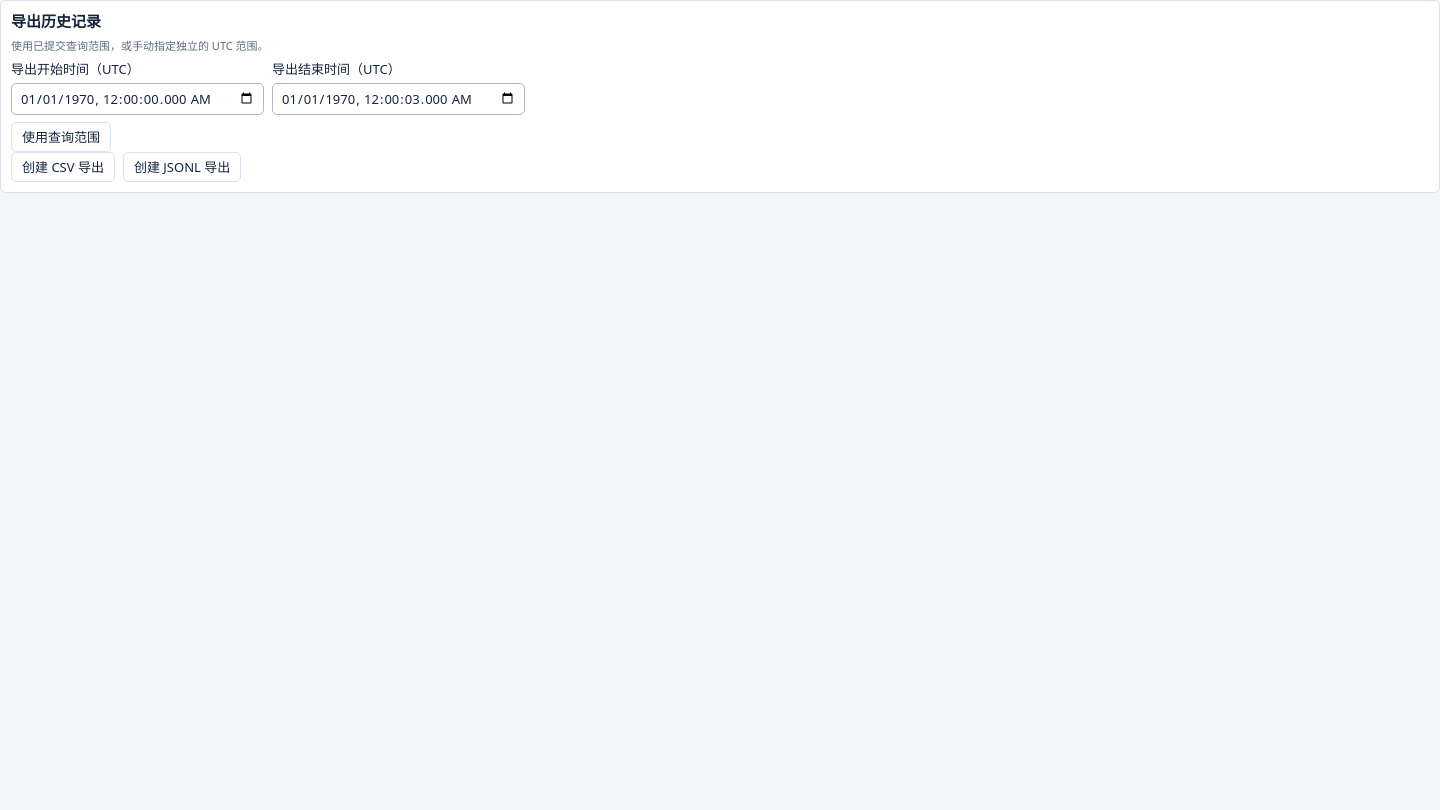
Test: cancels the export confirmation dialog and returns focus
This screenshot has width=1440, height=810.
Click the button "创建 CSV 导出".
click(63, 167)  # box top-left (11, 152), bottom-right (115, 182)
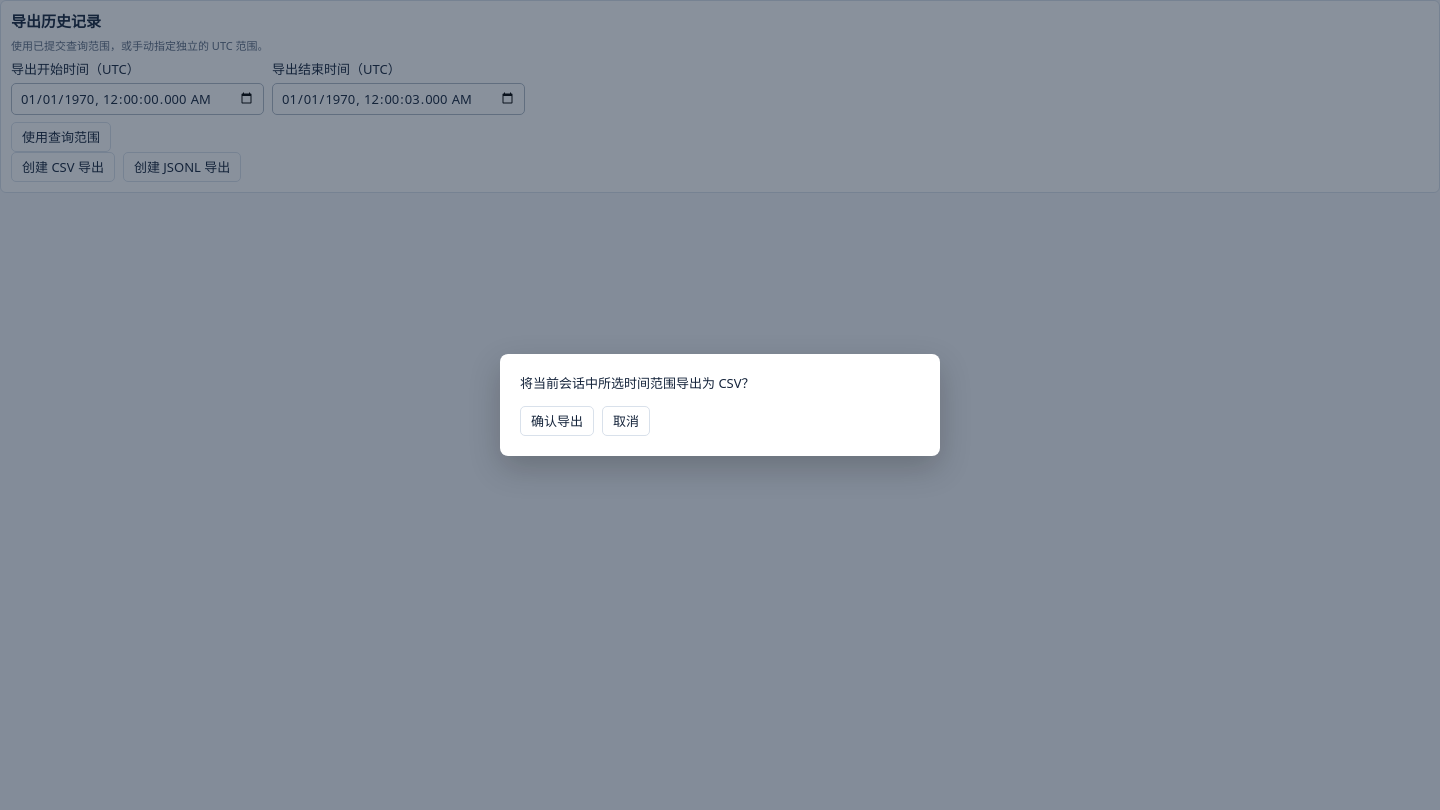
expect the dialog named "确认历史导出" is shown: met
Press Escape
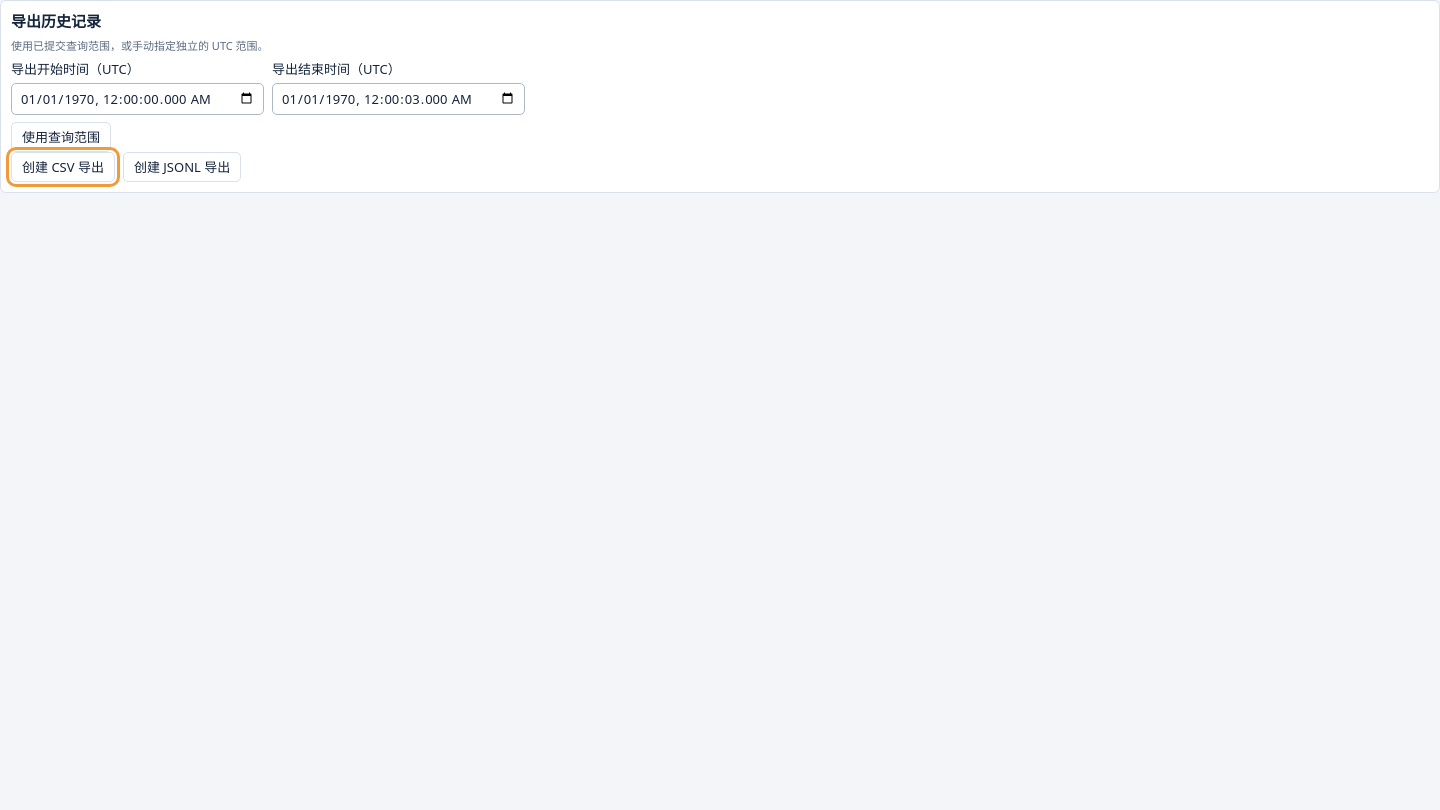
expect the dialog "确认历史导出" is gone: met
